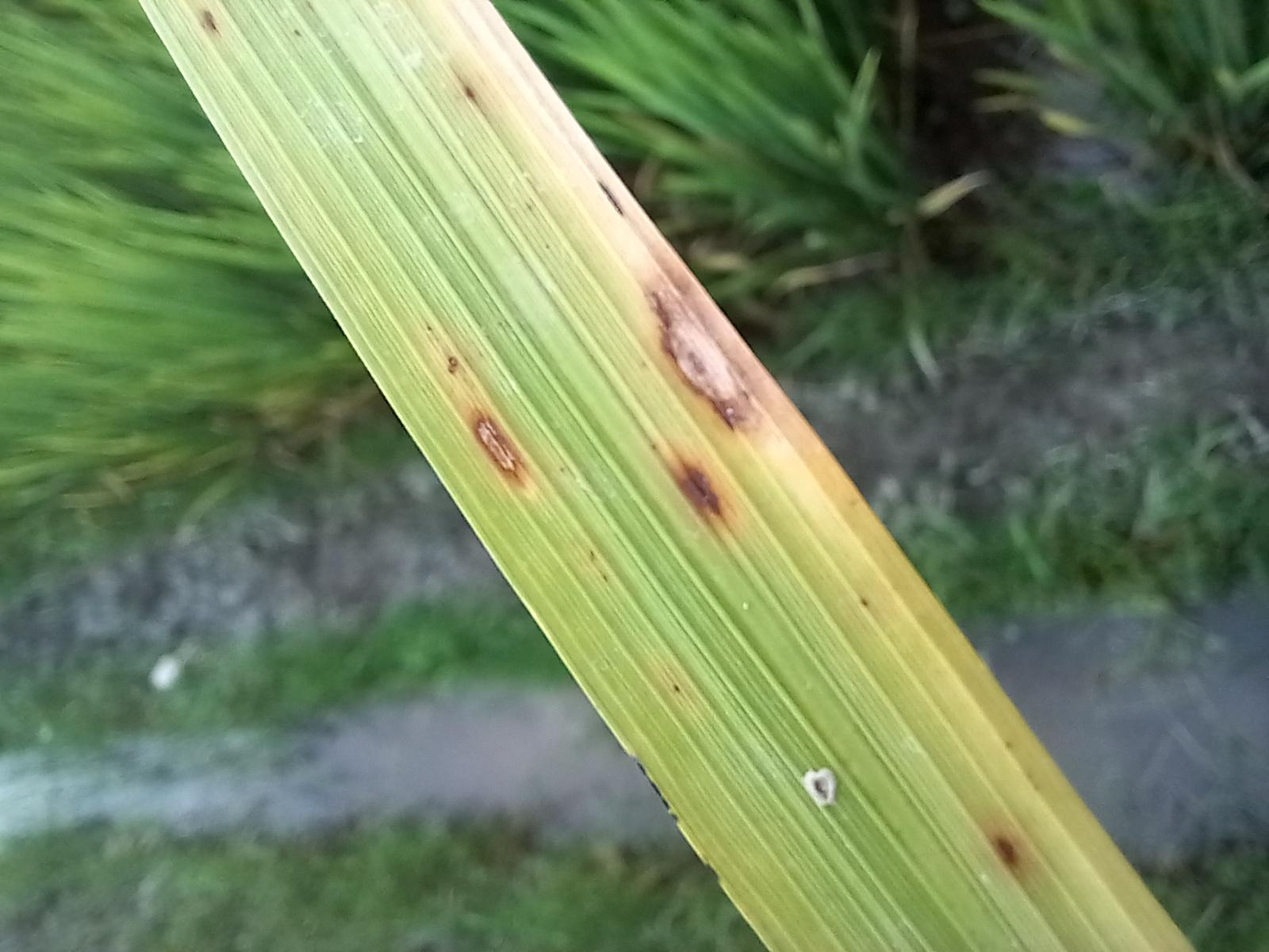LEAF BLAST: (692, 486, 907, 569), (621, 353, 721, 395), (1224, 148, 1255, 164)
